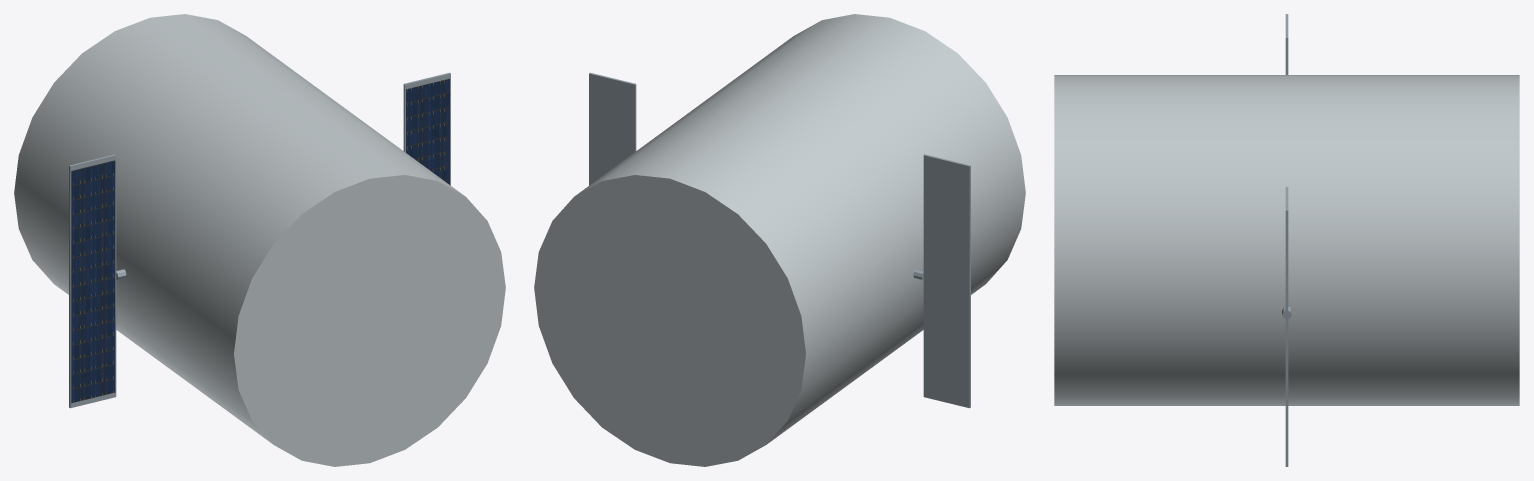
Rendered from ref-nextar-300l-40298.glb.
The picture shows the model from 3 angles, left to right: view 1: azimuth 30°, elevation 25°; view 2: azimuth 150°, elevation 25°; view 3: azimuth 270°, elevation 25°; orthographic projection. The views are drawn at different scales.
Visible parts, largest first — view 1: Spacecraft body, Photovoltaic laminates (×2), Array frame (×2); view 2: Spacecraft body, Array frame (×2); view 3: Spacecraft body, Array frame.
Boxes of the visible parts, x1=… form: Spacecraft body: x1=14, y1=14, x2=505, y2=466; Photovoltaic laminates (×2): x1=71, y1=78, x2=449, y2=403; Array frame (×2): x1=69, y1=72, x2=450, y2=408; Spacecraft body: x1=534, y1=14, x2=1025, y2=466; Array frame (×2): x1=589, y1=72, x2=970, y2=408; Spacecraft body: x1=1054, y1=75, x2=1519, y2=405; Array frame: x1=1285, y1=187, x2=1288, y2=466.
Size of the model in its own units: 3.5 by 2.5 by 3.5.
3 materials, 1 textured.
